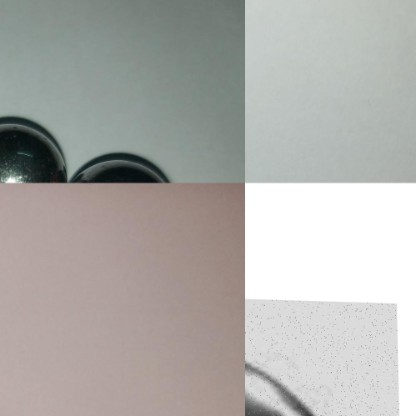ironball: (245, 296, 400, 415), (0, 120, 69, 183), (69, 150, 177, 184)
